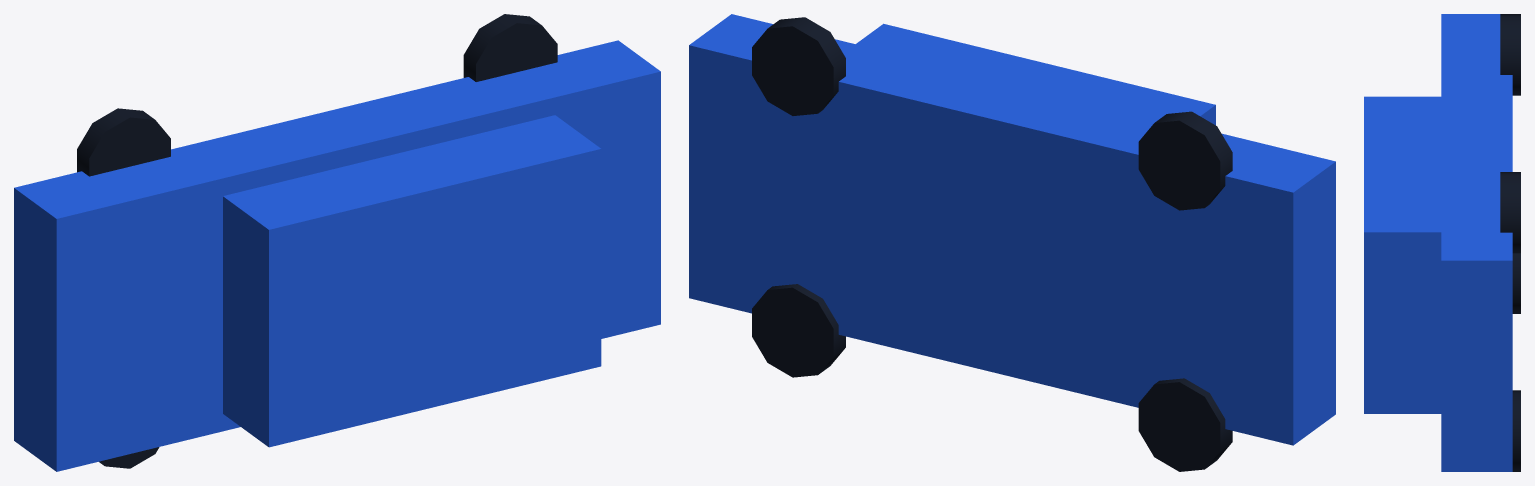
The model's file is vehicle.sedan.glb.
The picture shows the model from 3 angles, left to right: view 1: azimuth 30°, elevation 25°; view 2: azimuth 150°, elevation 25°; view 3: azimuth 270°, elevation 25°; orthographic projection. The views are drawn at different scales.
Parts seen in each view (by area): view 1: vehicle.sedan; view 2: vehicle.sedan; view 3: vehicle.sedan.
Part boxes in pixels (left/top/right/bottom): vehicle.sedan: left=14, top=14, right=660, bottom=471; vehicle.sedan: left=689, top=14, right=1335, bottom=471; vehicle.sedan: left=1364, top=14, right=1520, bottom=471.
Bounding box in the file's own units: 4.5 × 2.5 × 1.21.
